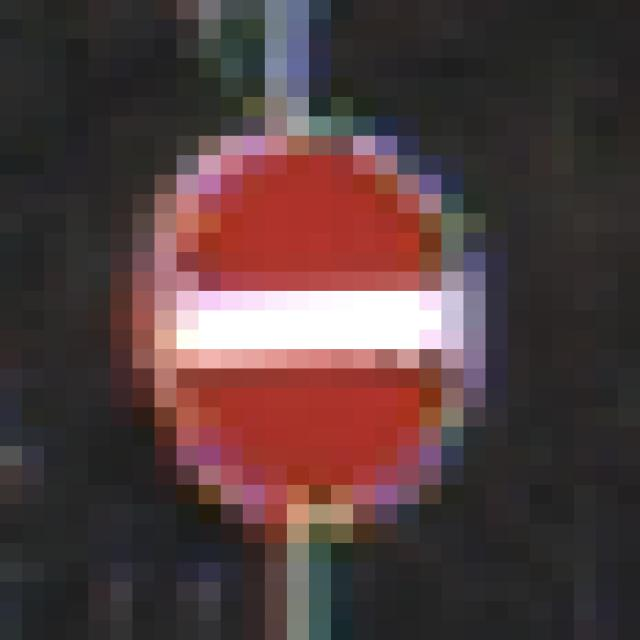No Entry: (111, 98, 531, 544)
